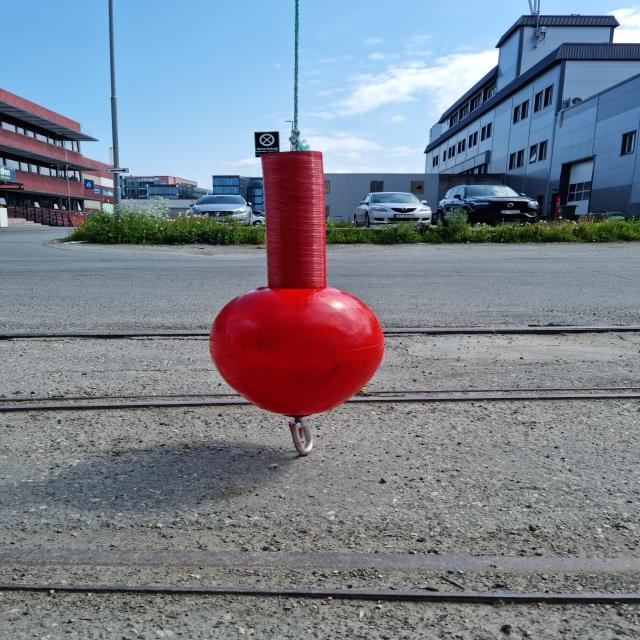red: (211, 153, 383, 417)
